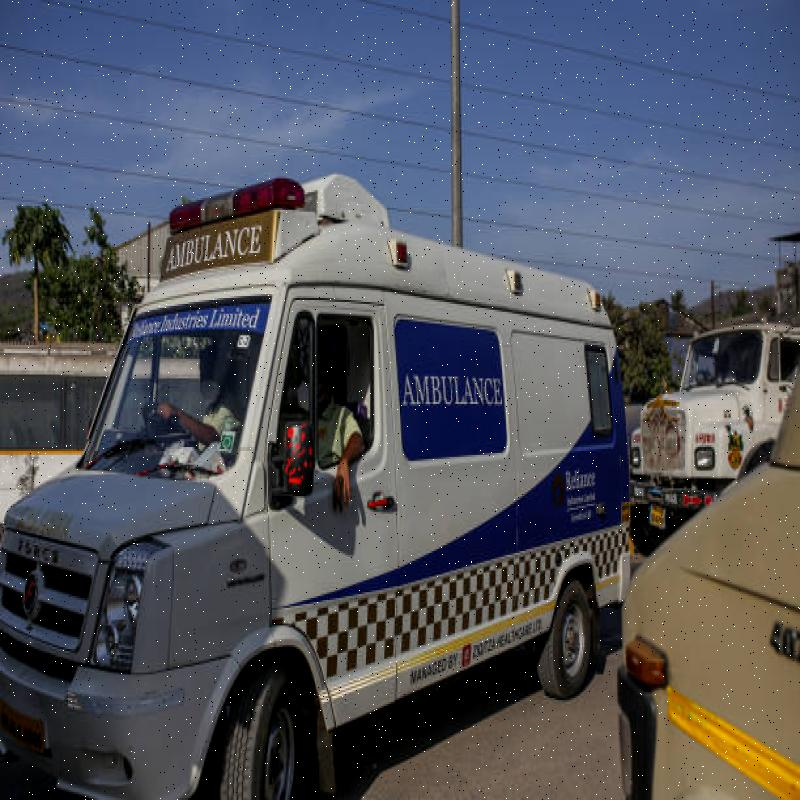ambulance: (11, 102, 634, 800)
